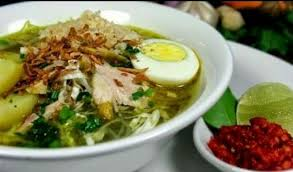soto: (1, 3, 213, 168)
